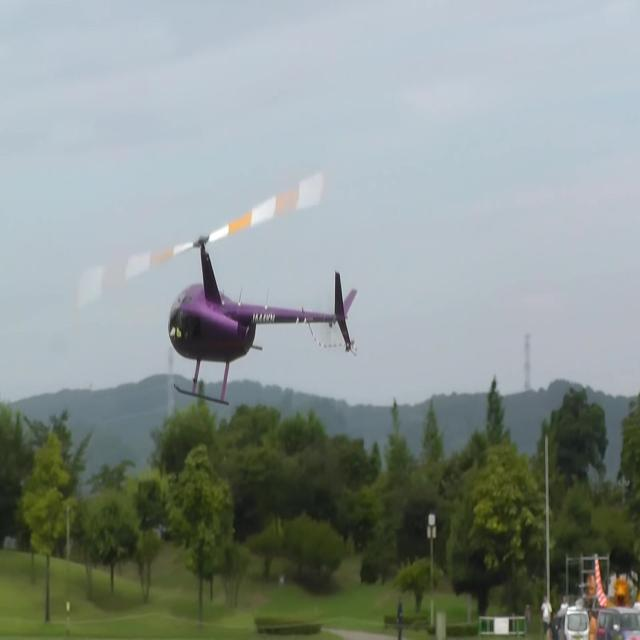CIV_HELO: (166, 233, 360, 408)
